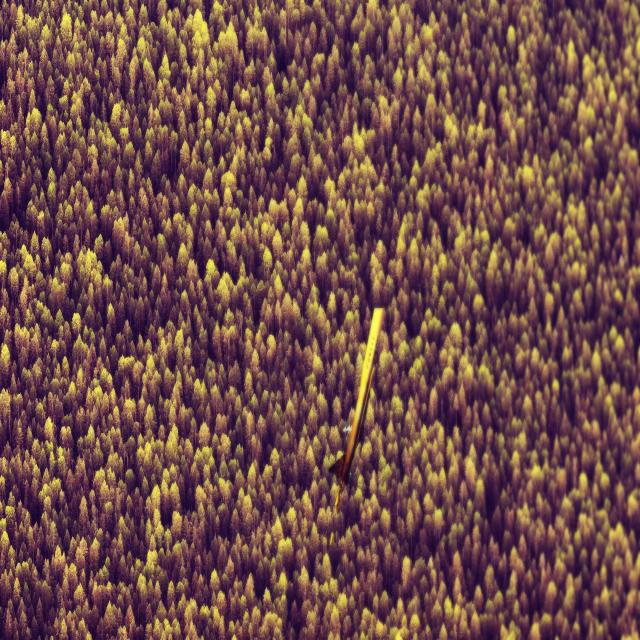airplane: (328, 306, 384, 512)
